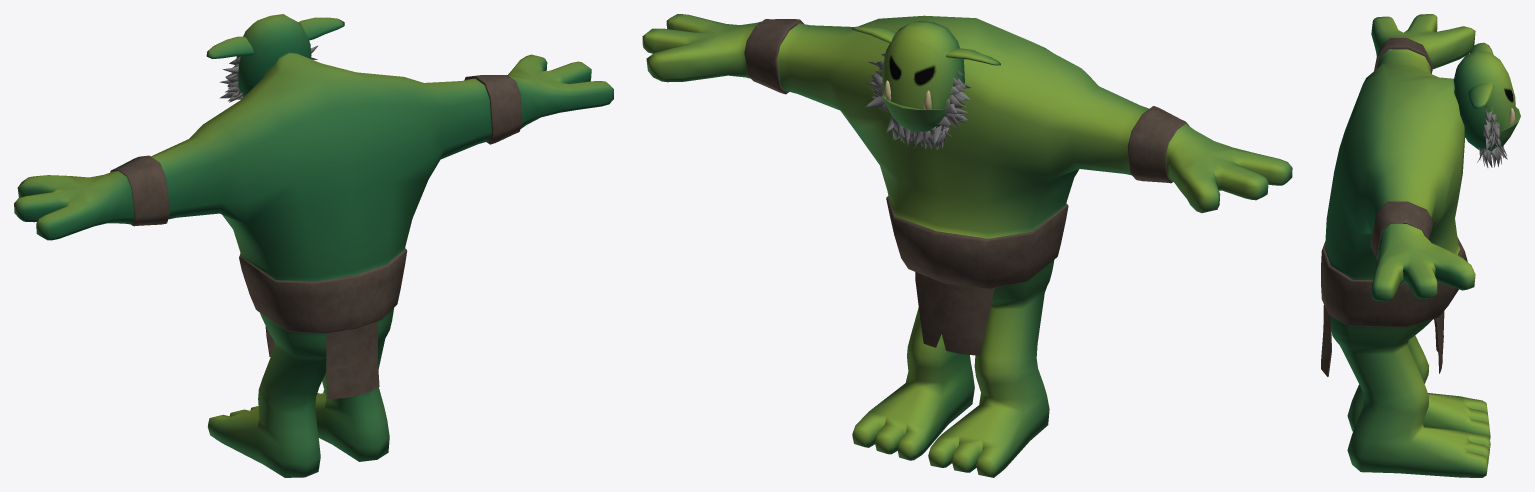
The picture shows the model from 3 angles, left to right: view 1: azimuth 30°, elevation 25°; view 2: azimuth 150°, elevation 25°; view 3: azimuth 270°, elevation 25°; orthographic projection. The views are drawn at different scales.
Visible parts, largest first — view 1: Plane.003_Baked; view 2: Plane.003_Baked; view 3: Plane.003_Baked.
Part boxes in pixels (<box>): Plane.003_Baked: <box>14,14,613,477</box>; Plane.003_Baked: <box>642,14,1292,477</box>; Plane.003_Baked: <box>1321,14,1520,477</box>.
Size of the model in its own units: 447 by 300 by 139.
1 material, 1 textured.
